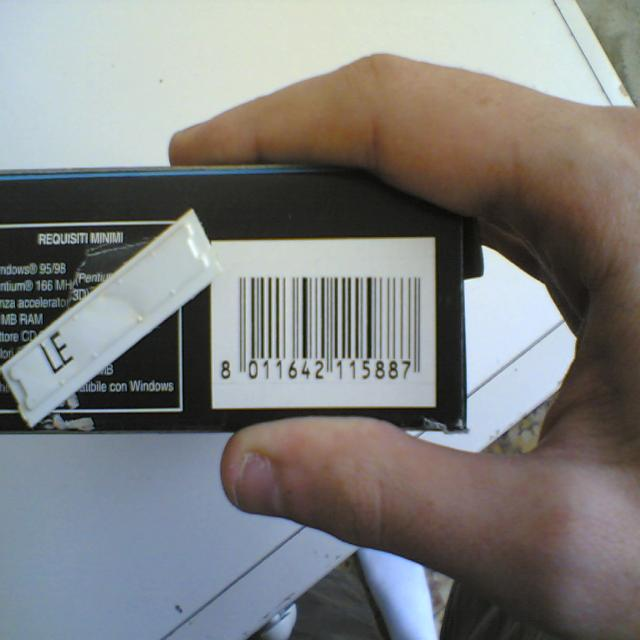barcode: (210, 238, 436, 408)
